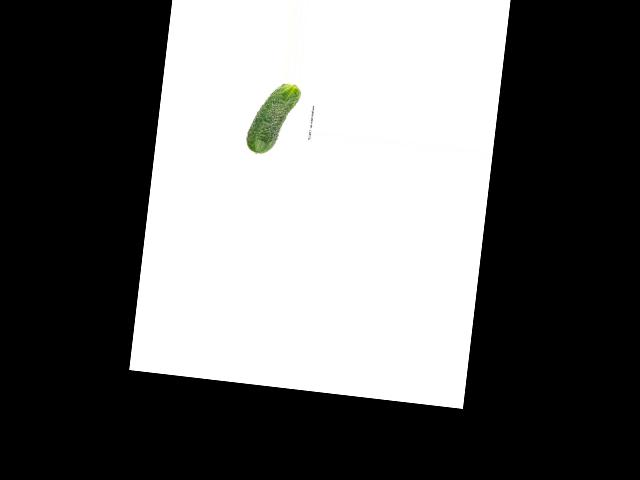cucumber: (245, 79, 302, 158)
